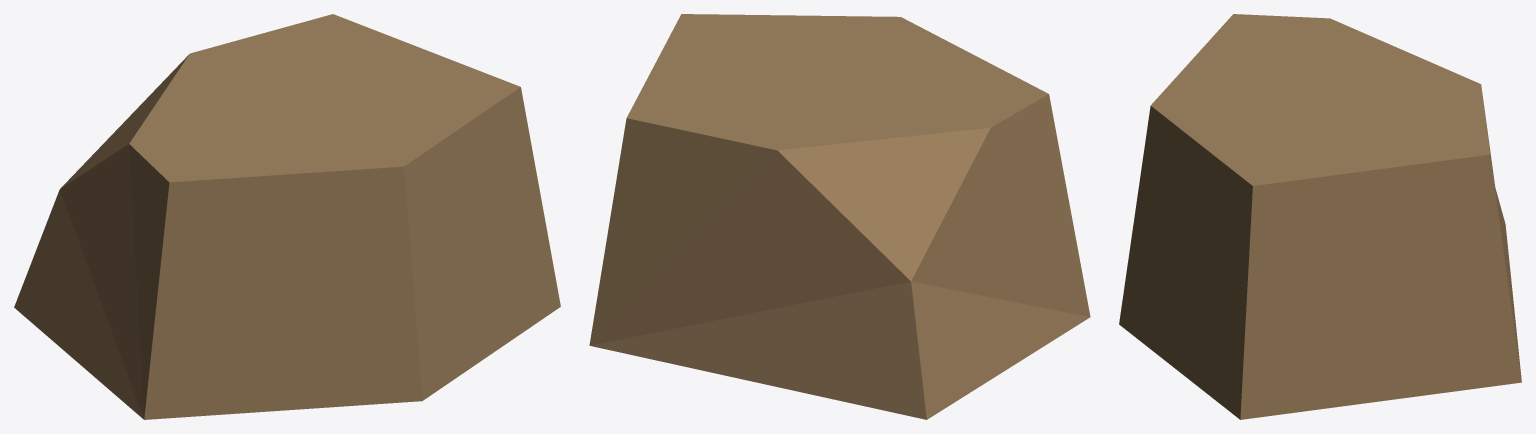
The model's file is pebble_b.glb.
3 renders of one model, left to right at view 1: azimuth 30°, elevation 25°; view 2: azimuth 150°, elevation 25°; view 3: azimuth 270°, elevation 25°, orthographic. The views are drawn at different scales.
Parts seen in each view (by area): view 1: SM_Env_Pebble_02; view 2: SM_Env_Pebble_02; view 3: SM_Env_Pebble_02.
Part boxes in pixels (x1=…): SM_Env_Pebble_02: x1=14, y1=14, x2=560, y2=419; SM_Env_Pebble_02: x1=589, y1=14, x2=1090, y2=419; SM_Env_Pebble_02: x1=1119, y1=14, x2=1521, y2=419.
Size of the model in its own units: 7.41 by 3.69 by 6.18.
1 material, 1 textured.
